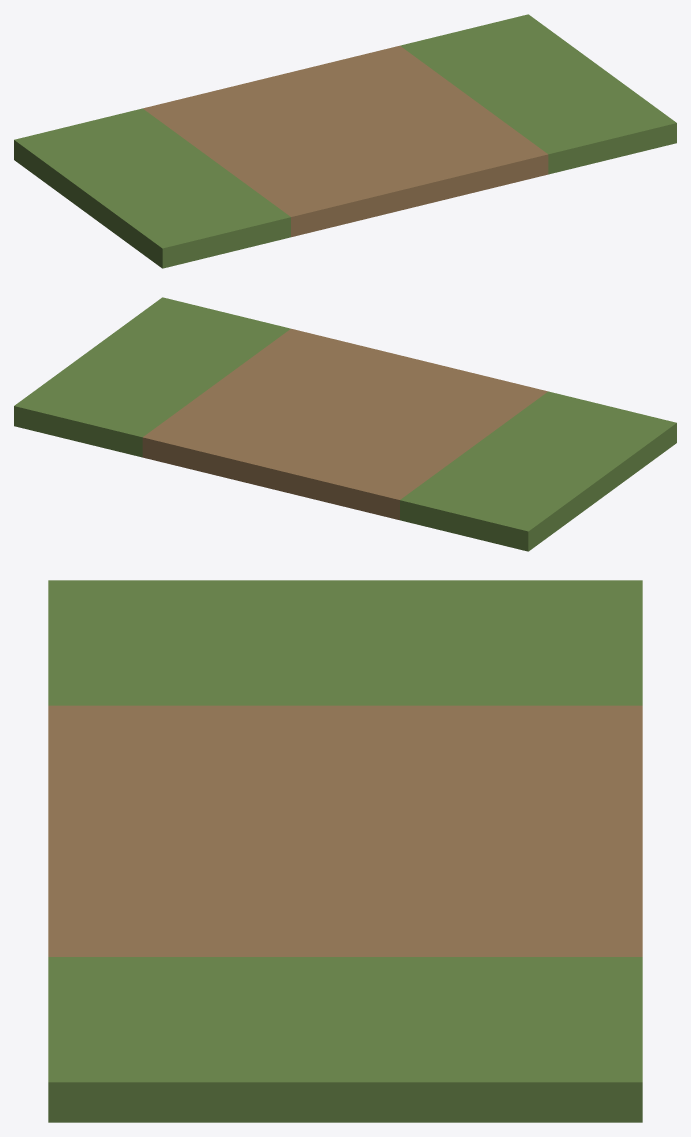
File: Road_1Lane_Dirt_NoSidewalk_Straight_4m.glb
The picture shows the model from 3 angles, top to bottom: view 1: azimuth 30°, elevation 25°; view 2: azimuth 150°, elevation 25°; view 3: azimuth 270°, elevation 25°; orthographic projection. The views are drawn at different scales.
Parts seen in each view (by area): view 1: Road_1Lane_Dirt_NoSidewalk_Straight_4m_Grass-edge, Road_1Lane_Dirt_NoSidewalk_Straight_4m_Dirt; view 2: Road_1Lane_Dirt_NoSidewalk_Straight_4m_Grass-edge, Road_1Lane_Dirt_NoSidewalk_Straight_4m_Dirt; view 3: Road_1Lane_Dirt_NoSidewalk_Straight_4m_Grass-edge, Road_1Lane_Dirt_NoSidewalk_Straight_4m_Dirt.
Boxes of the visible parts, box(x1,y1,x2,y2) form: Road_1Lane_Dirt_NoSidewalk_Straight_4m_Grass-edge: box(14, 14, 676, 268); Road_1Lane_Dirt_NoSidewalk_Straight_4m_Dirt: box(143, 45, 548, 237); Road_1Lane_Dirt_NoSidewalk_Straight_4m_Grass-edge: box(14, 297, 676, 551); Road_1Lane_Dirt_NoSidewalk_Straight_4m_Dirt: box(142, 328, 547, 520); Road_1Lane_Dirt_NoSidewalk_Straight_4m_Grass-edge: box(48, 580, 642, 1122); Road_1Lane_Dirt_NoSidewalk_Straight_4m_Dirt: box(48, 705, 642, 956).
Bounding box in the file's own units: 8 × 0.3 × 4.
